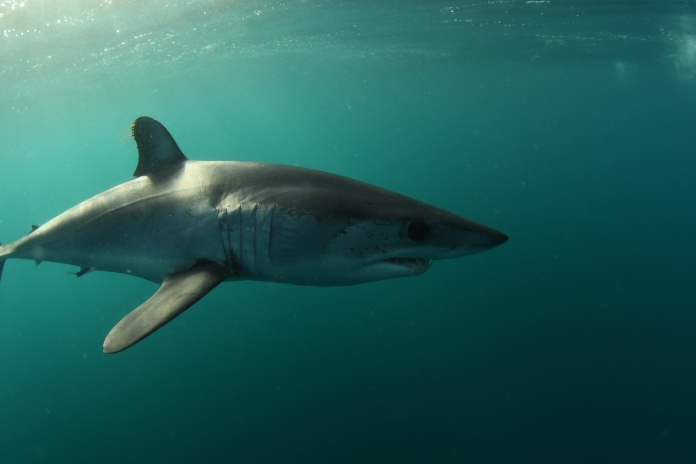Mako: (1, 107, 511, 363)
